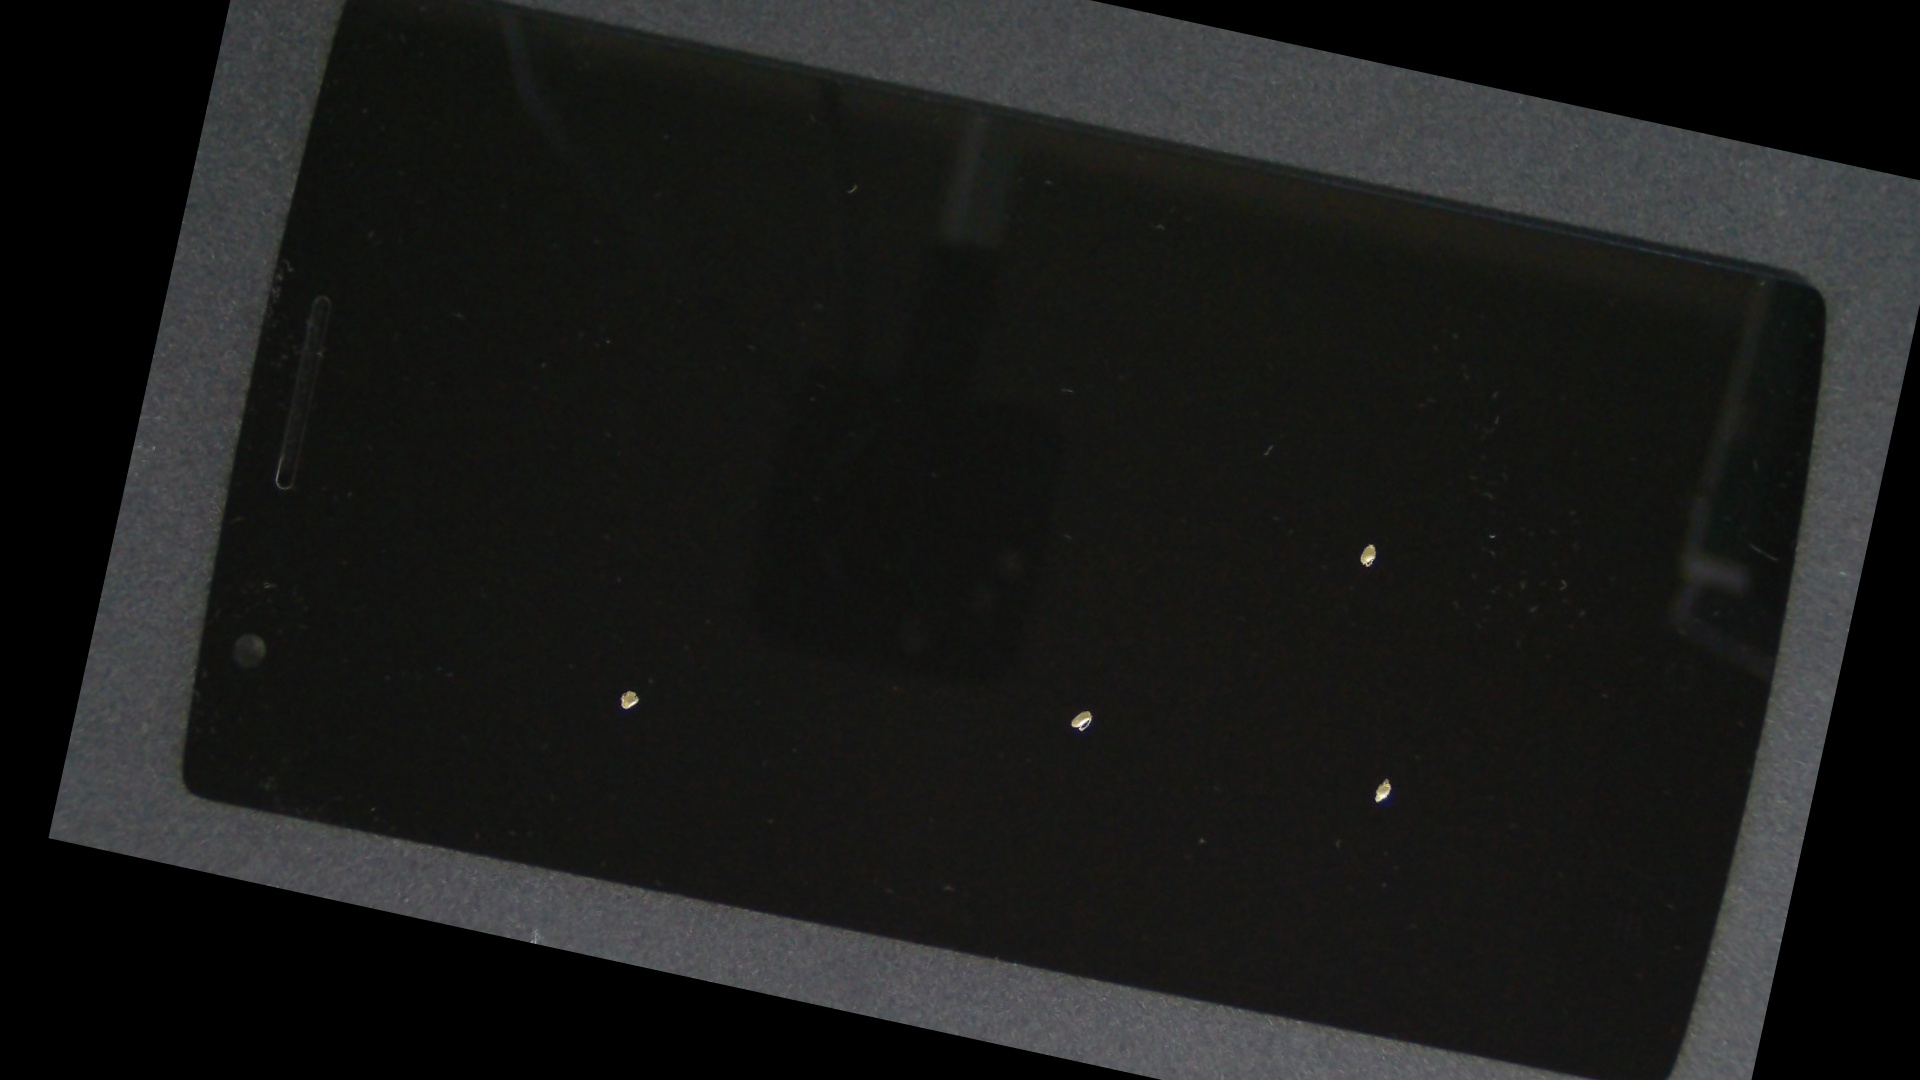oil: (682, 298, 1873, 1080), (531, 265, 1643, 1080), (721, 182, 1896, 877), (311, 256, 975, 1009)
